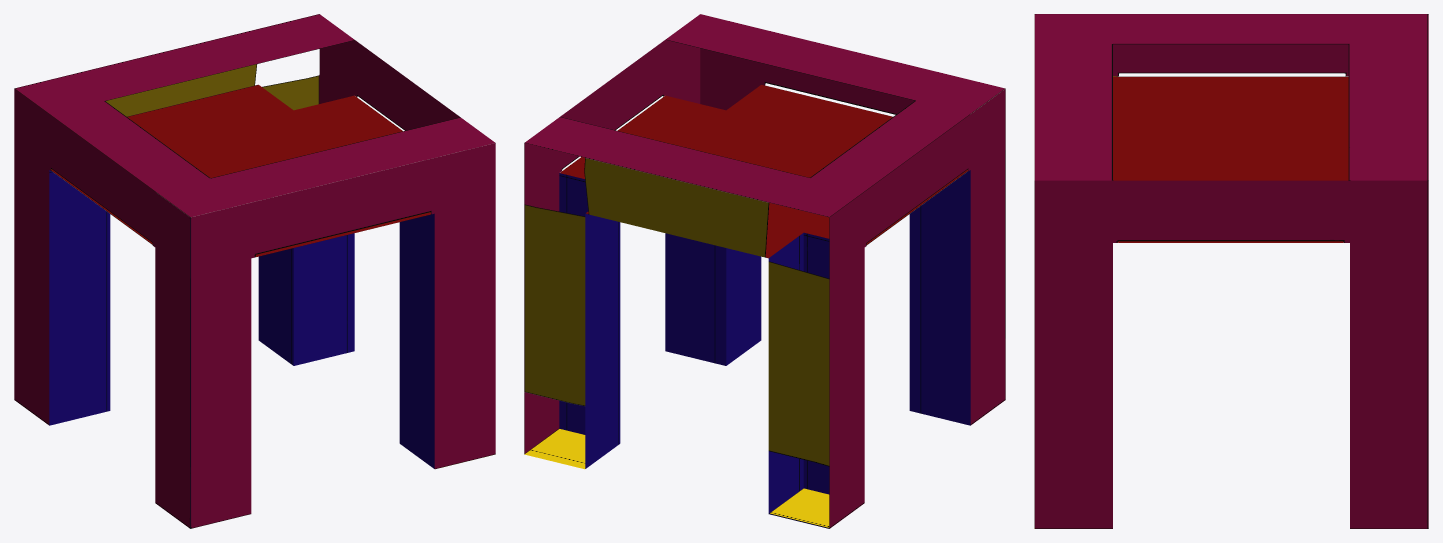
The model's file is table.obj.
The picture shows the model from 3 angles, left to right: view 1: azimuth 30°, elevation 25°; view 2: azimuth 150°, elevation 25°; view 3: azimuth 270°, elevation 25°; orthographic projection. The views are drawn at different scales.
Visible parts, largest first — view 1: Table; view 2: Table; view 3: Table.
Boxes of the visible parts, x1,y1,x2,y2 form: Table: (14, 14, 495, 528); Table: (524, 14, 1005, 528); Table: (1034, 14, 1428, 528).
Size of the model in its own units: 1 by 0.975 by 1.
